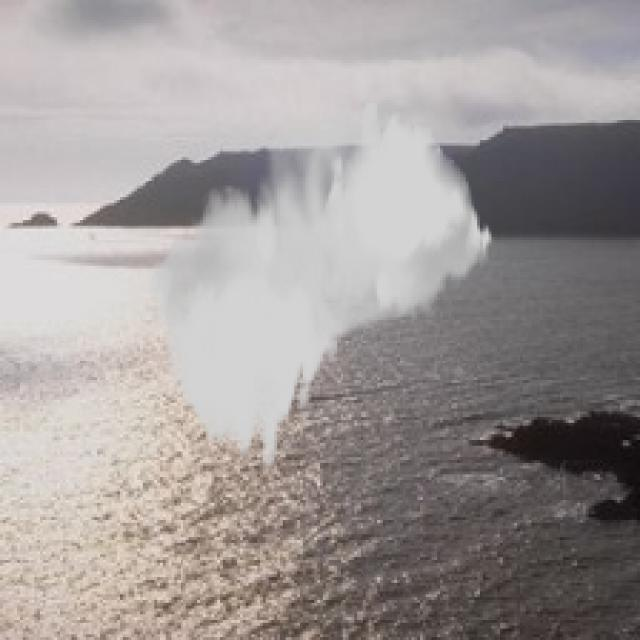Smoke: (148, 100, 494, 469)
